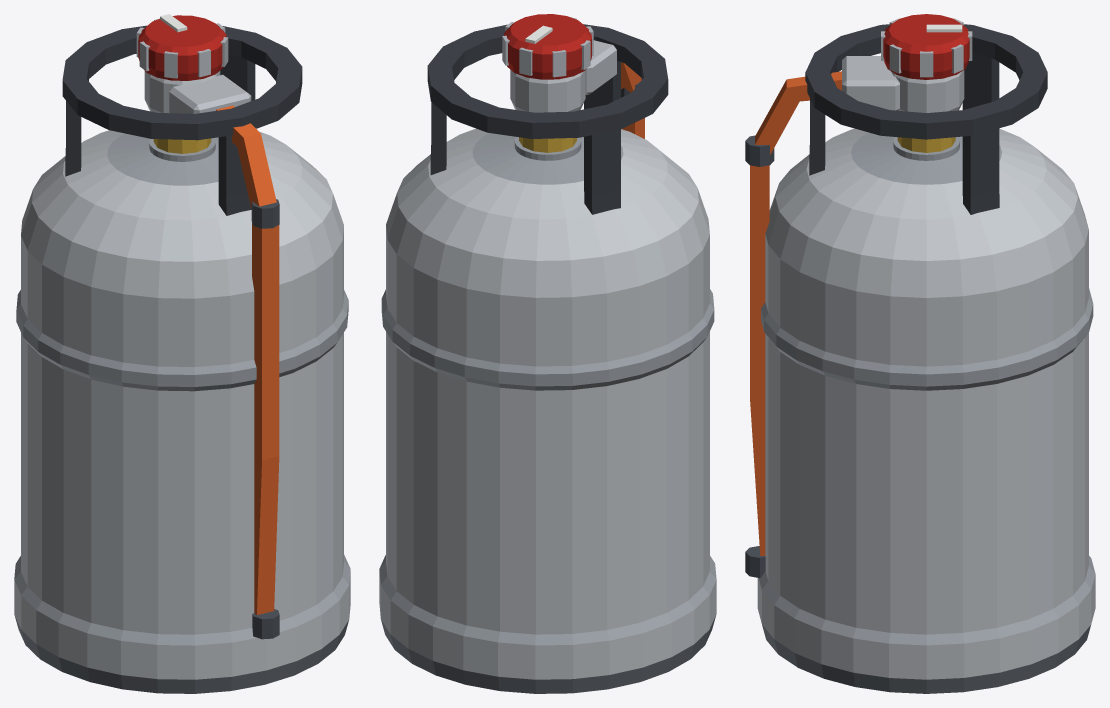
The model's file is Botijao.fbx.
3 views of the same model, side by side, from view 1: azimuth 30°, elevation 25°; view 2: azimuth 150°, elevation 25°; view 3: azimuth 270°, elevation 25° (orthographic).
Parts seen in each view (by area): view 1: Botijao, Registro_Botijao; view 2: Botijao, Registro_Botijao; view 3: Botijao, Registro_Botijao.
Boxes of the visible parts, x1,y1,x2,y2 form: Botijao: [14, 25, 350, 693]; Registro_Botijao: [136, 14, 228, 80]; Botijao: [379, 24, 716, 693]; Registro_Botijao: [502, 14, 593, 79]; Botijao: [745, 24, 1095, 693]; Registro_Botijao: [881, 14, 972, 79].
Bounding box in the file's own units: 0.304 × 0.593 × 0.315.
1 material, 1 textured.
